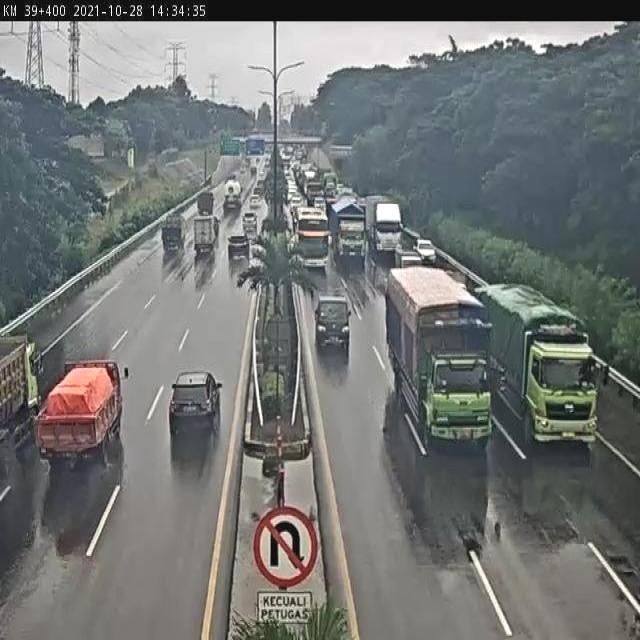Car: (169, 370, 223, 437), (314, 294, 352, 356), (414, 238, 437, 266), (227, 233, 250, 260)
Truck: (384, 220, 509, 484), (480, 280, 599, 456), (34, 359, 124, 470), (0, 335, 44, 461), (29, 328, 69, 409), (170, 419, 219, 484), (292, 204, 330, 269), (449, 296, 490, 351), (367, 199, 402, 263), (262, 316, 292, 373), (340, 261, 372, 312), (258, 369, 287, 421), (336, 216, 366, 265), (328, 193, 364, 233), (192, 213, 218, 257), (161, 214, 186, 256), (367, 257, 391, 295), (193, 251, 217, 289), (274, 438, 310, 462), (326, 144, 355, 172), (260, 212, 287, 238), (265, 179, 289, 208), (0, 428, 12, 482), (261, 452, 283, 481), (224, 179, 242, 211), (396, 248, 422, 270), (104, 134, 126, 160), (246, 250, 265, 279), (401, 226, 422, 252), (306, 178, 324, 206), (84, 139, 106, 160), (92, 195, 112, 218), (249, 236, 266, 262), (197, 191, 214, 216), (291, 162, 305, 192), (364, 253, 376, 287), (178, 257, 193, 283), (246, 136, 265, 156), (464, 273, 482, 294), (256, 157, 269, 186), (32, 349, 45, 378), (242, 211, 258, 234), (323, 174, 338, 198), (303, 169, 317, 194), (287, 232, 298, 256), (328, 138, 354, 148), (289, 194, 303, 212), (301, 162, 315, 180), (291, 204, 300, 232), (237, 267, 250, 286), (160, 147, 178, 160), (337, 186, 355, 198), (256, 177, 266, 197), (249, 194, 261, 210), (281, 149, 291, 167), (220, 136, 230, 154), (356, 197, 367, 213), (320, 121, 329, 140), (225, 180, 235, 197), (246, 234, 258, 248), (328, 145, 344, 155), (127, 148, 135, 168), (250, 131, 262, 142), (240, 139, 248, 155), (265, 142, 275, 154), (295, 148, 305, 160), (198, 169, 206, 184), (336, 183, 345, 196), (240, 160, 248, 174), (283, 163, 290, 179), (204, 174, 212, 187), (250, 163, 258, 175), (228, 173, 236, 182), (210, 125, 217, 134)
